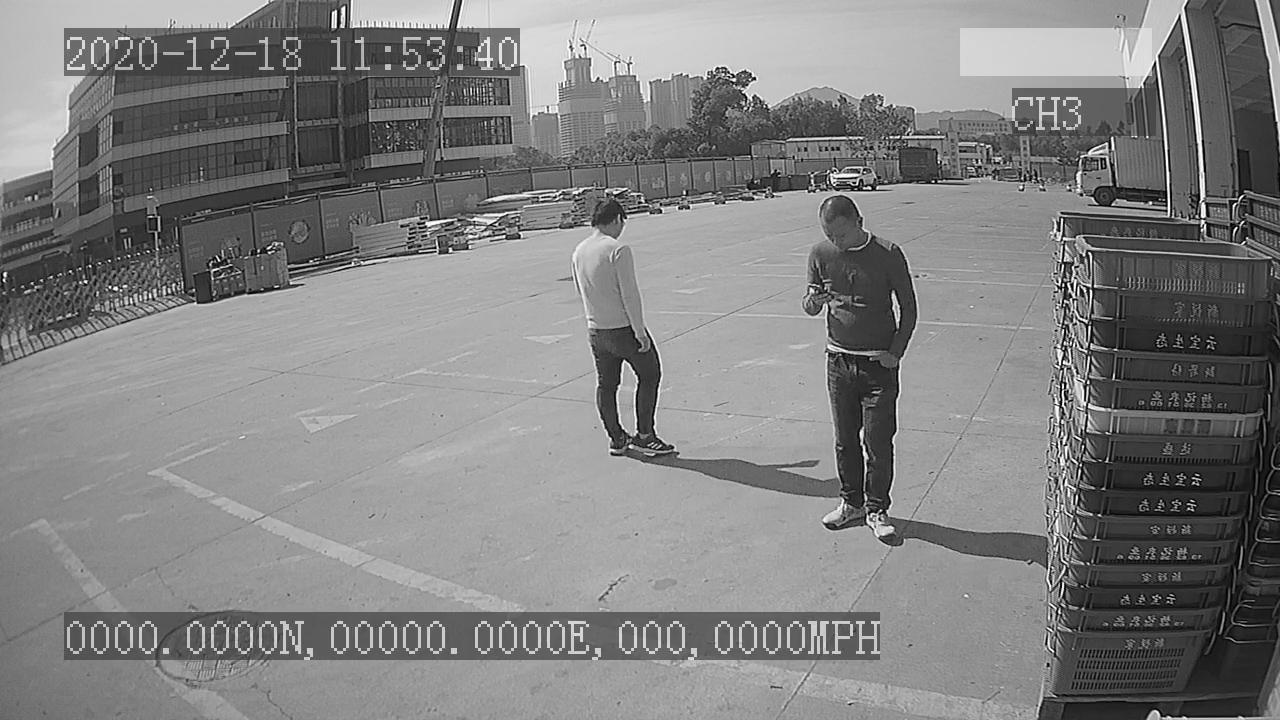person: (795, 190, 927, 549), (561, 197, 683, 463)
